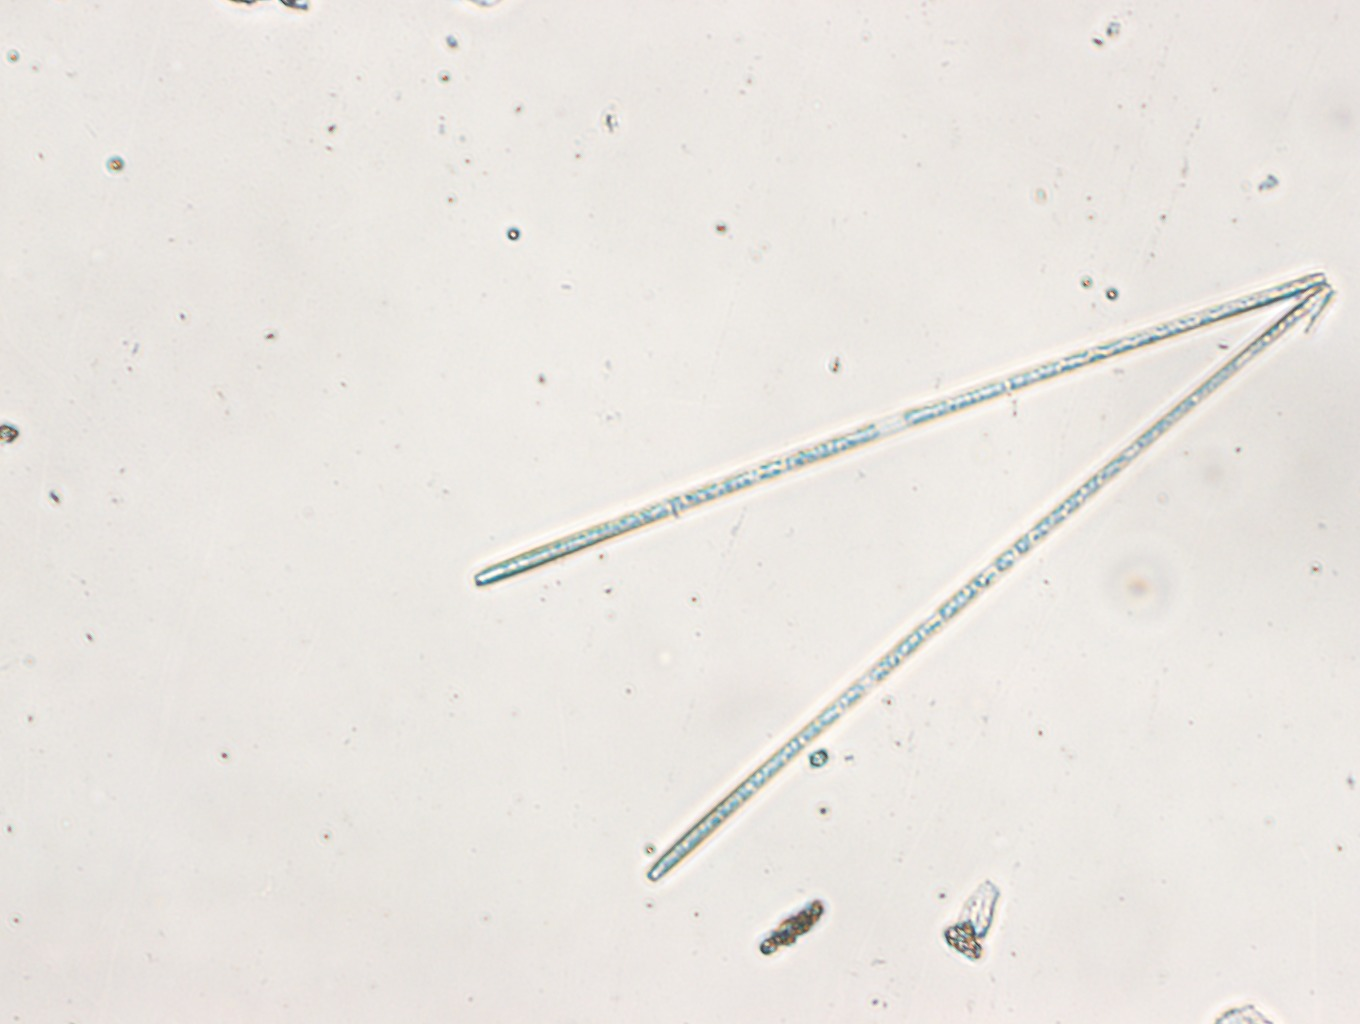thalassionema frauenfeldii: (472, 272, 1341, 887)
